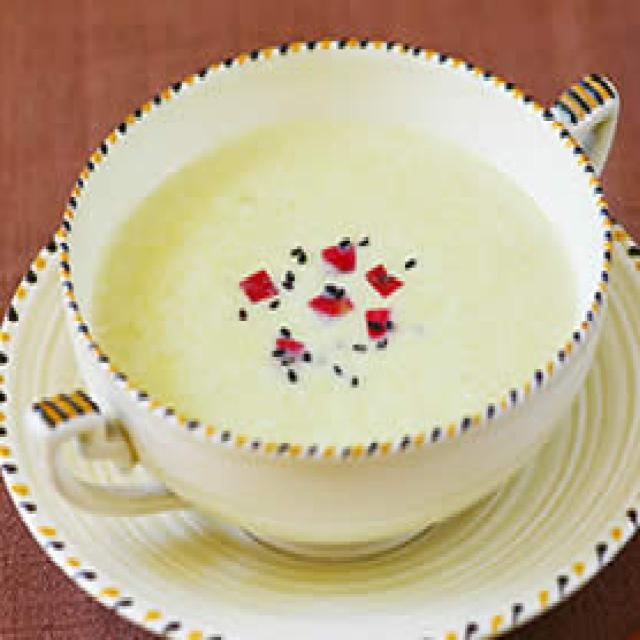汤锅炖物: (0, 15, 640, 640)
